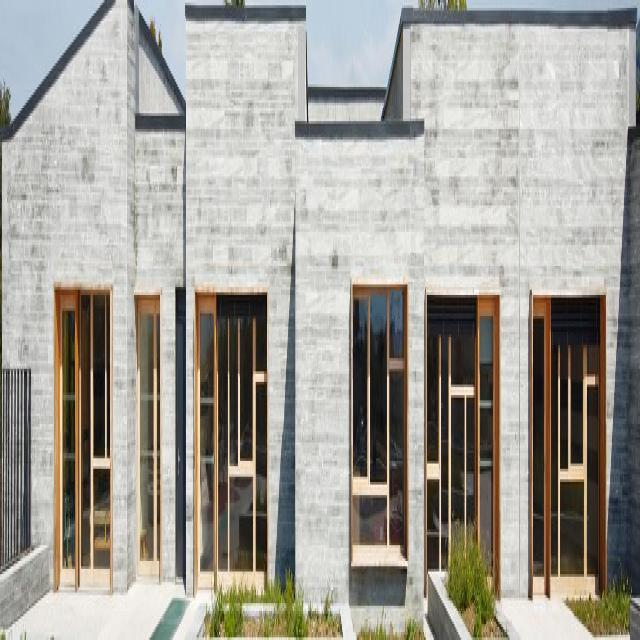door: (53, 296, 80, 611), (192, 298, 217, 613), (136, 312, 162, 593), (529, 310, 551, 614), (477, 306, 497, 604)
railing: (0, 379, 32, 590)
window: (351, 305, 408, 582), (217, 314, 269, 606), (551, 313, 600, 615), (428, 318, 477, 570), (80, 307, 112, 595)
